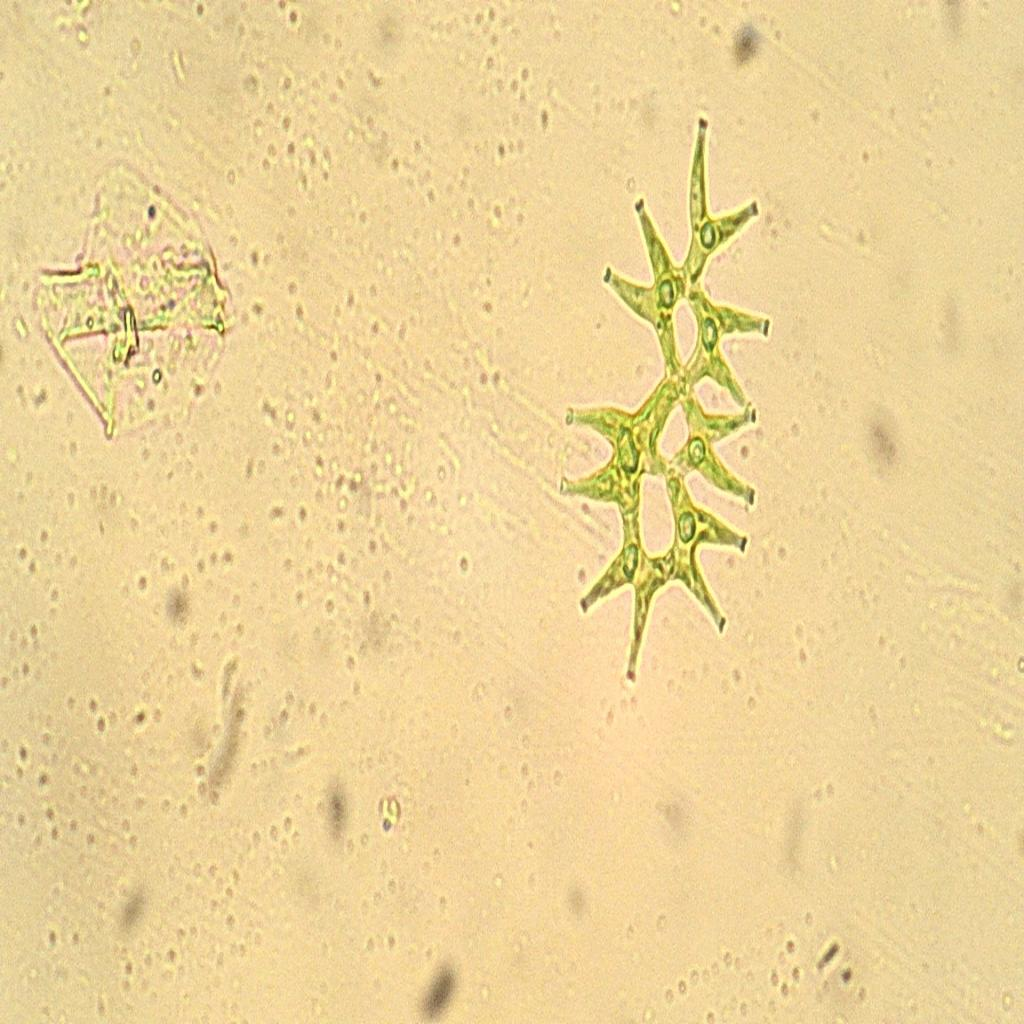Pediastrum_CFI: (555, 106, 779, 702)
